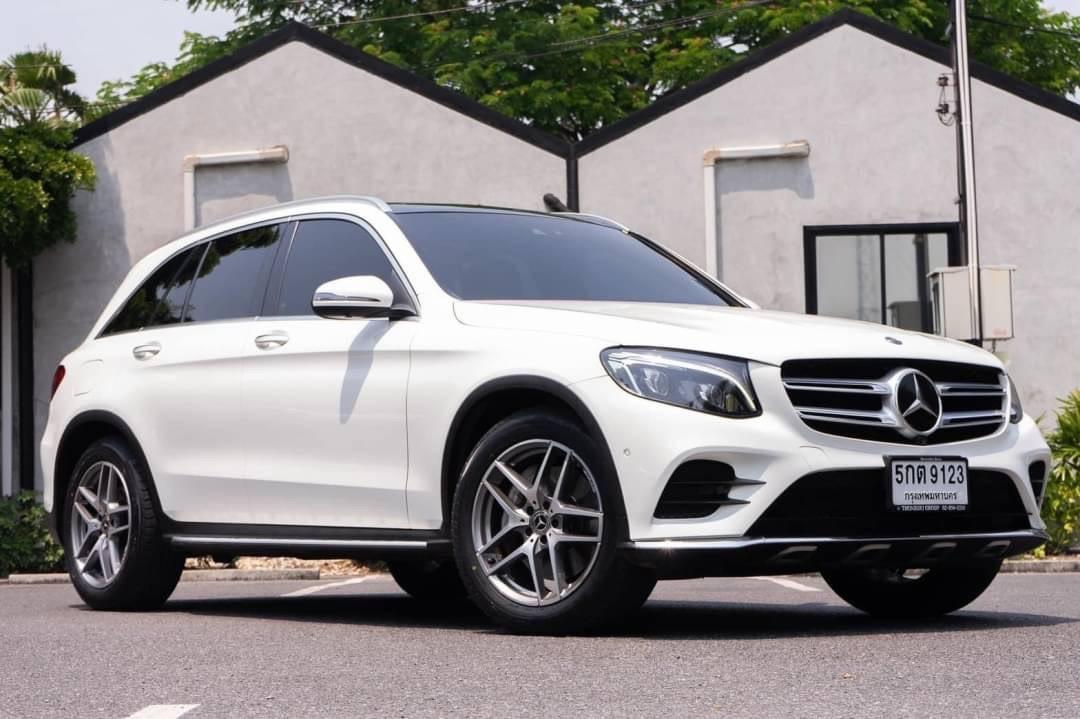license-plate: (886, 454, 973, 516)
